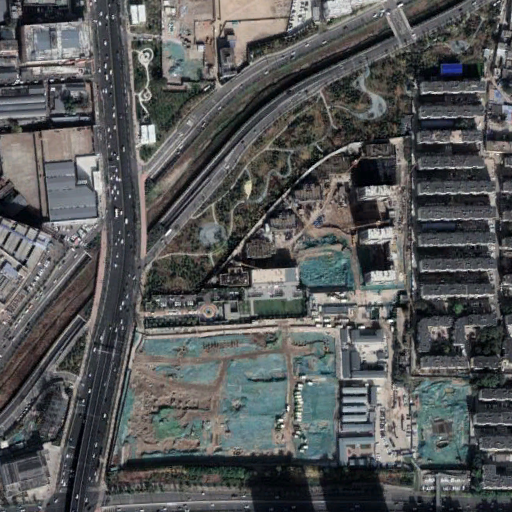cw: (112, 333, 339, 457), (415, 378, 469, 468), (297, 228, 357, 291), (160, 39, 202, 85)
